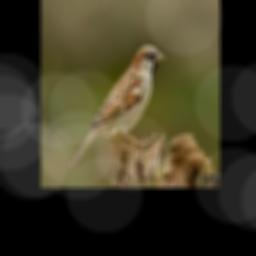Sparrow: (69, 45, 166, 168)
